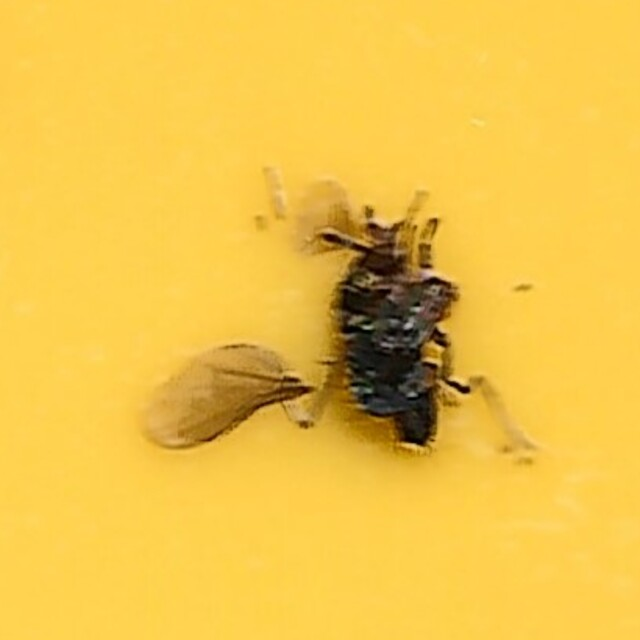Brachycera: (156, 177, 484, 463)
